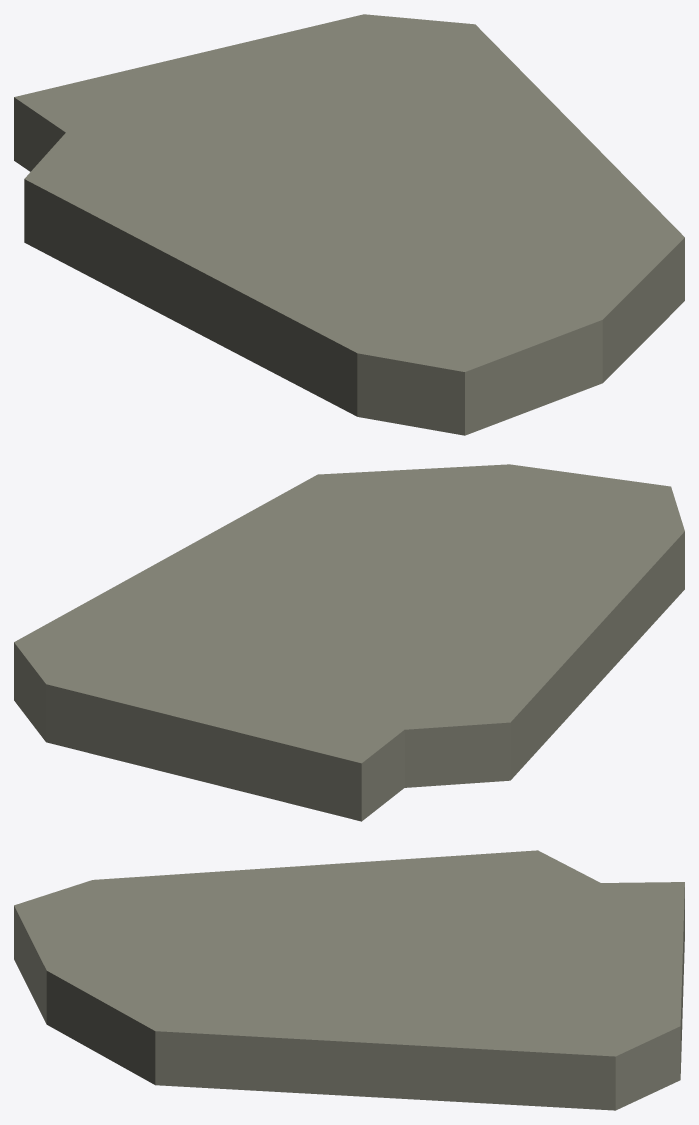
Rendered from Tile3.fbx.
The picture shows the model from 3 angles, top to bottom: view 1: azimuth 30°, elevation 25°; view 2: azimuth 150°, elevation 25°; view 3: azimuth 270°, elevation 25°; orthographic projection. The views are drawn at different scales.
Visible parts, largest first — view 1: Tile3; view 2: Tile3; view 3: Tile3.
Part boxes in pixels (x1=…): Tile3: x1=14, y1=14, x2=684, y2=435; Tile3: x1=14, y1=464, x2=684, y2=821; Tile3: x1=14, y1=850, x2=684, y2=1110.
Size of the model in its own units: 0.3078 by 0.0376 by 0.4234.
